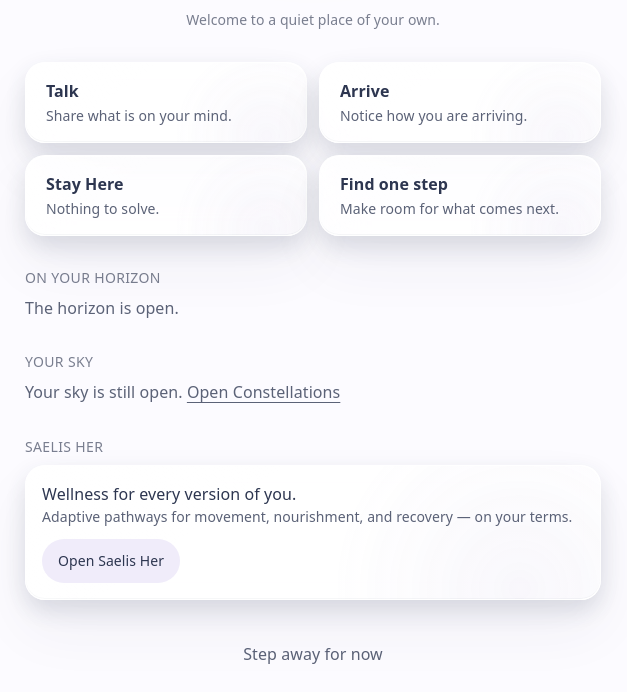
Test case: HomeView › offers Last Light groundwork: one quiet line on stepping away, never a modal
(page scrolled)
Click the button "Step away for now" at (313, 654), box x1=219 y1=632 x2=407 y2=676
(page scrolled)
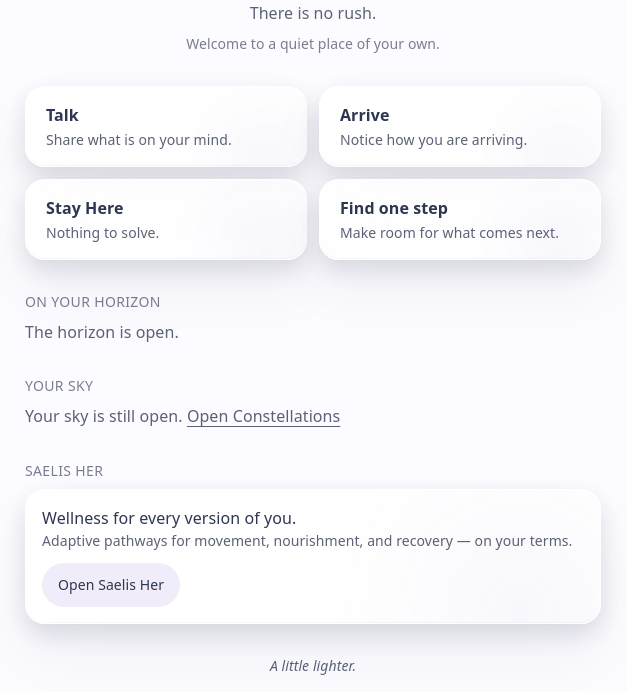
Now the message reads "A little lighter.", box x1=270 y1=656 x2=356 y2=675
